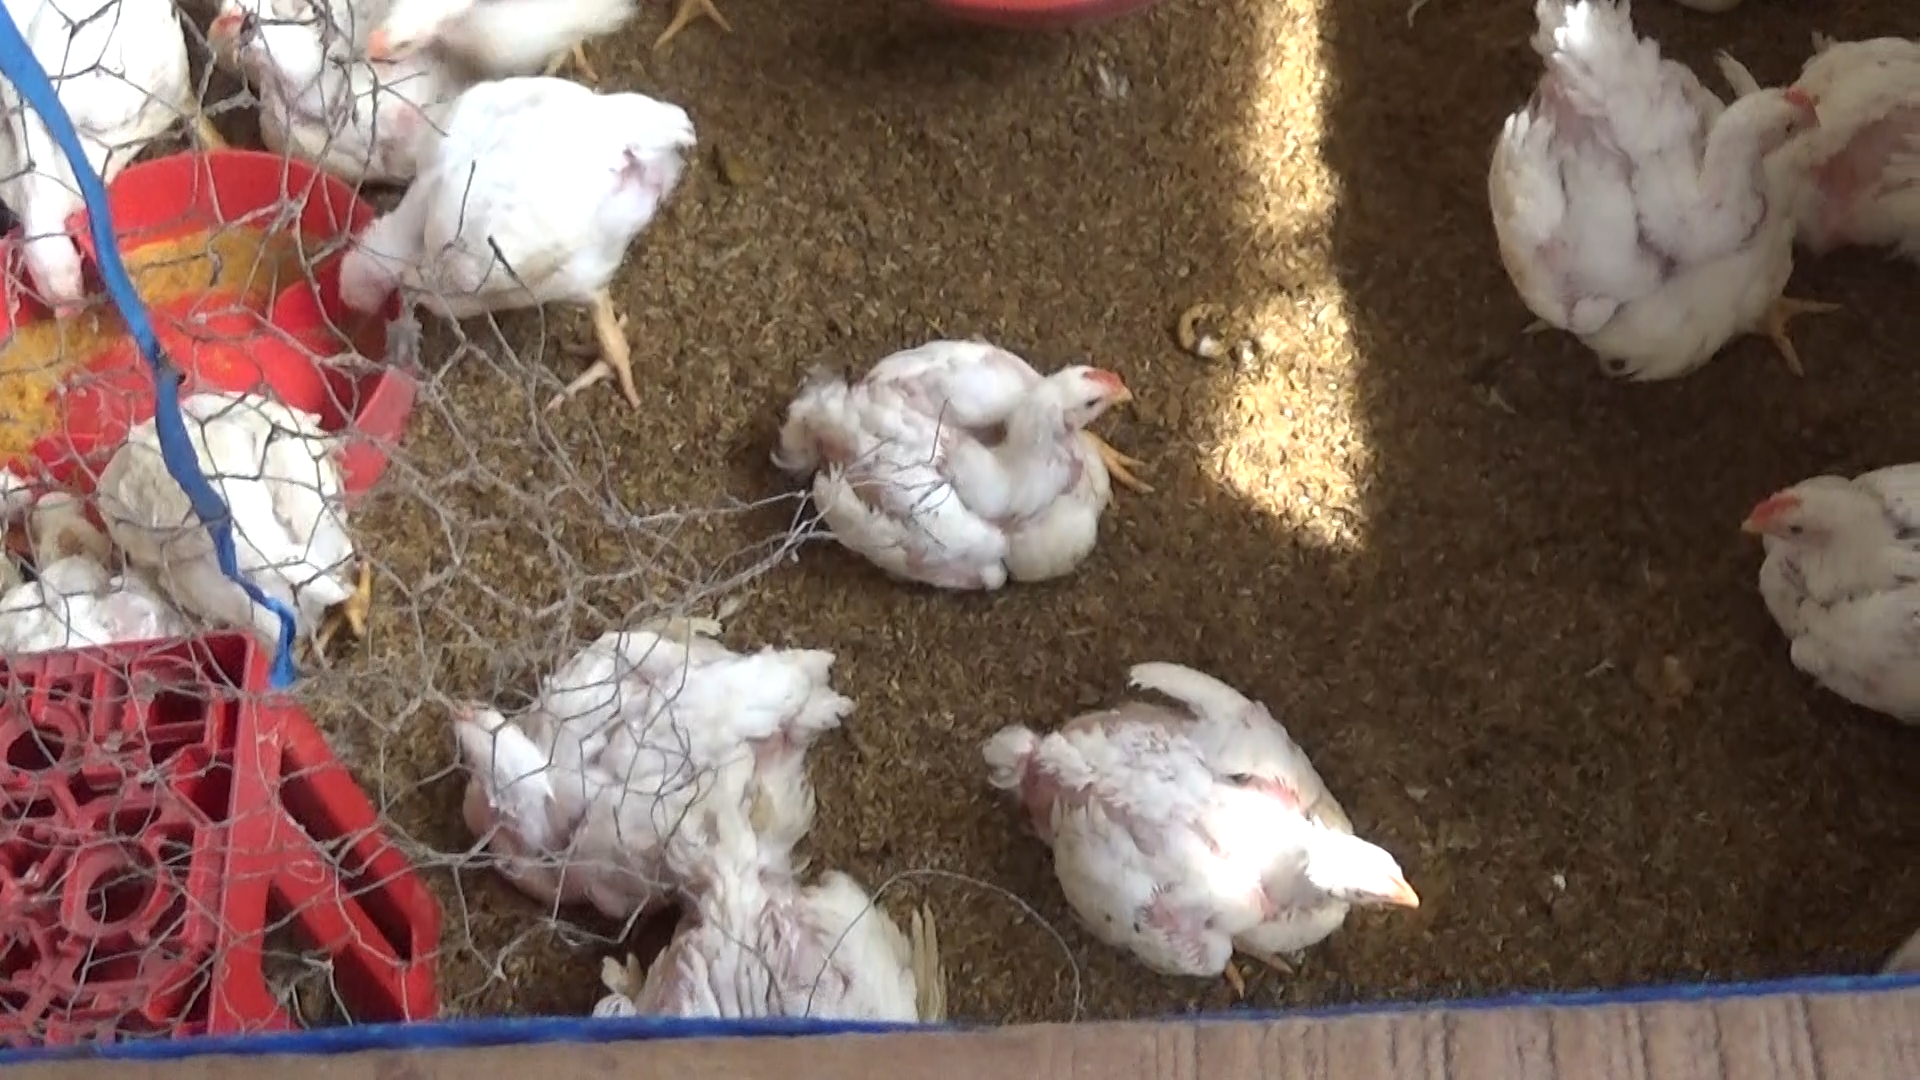Pollos: (957, 644, 1440, 1009), (1468, 0, 1844, 411), (407, 607, 843, 902), (331, 87, 707, 413), (760, 342, 1155, 611), (100, 357, 392, 649), (0, 0, 225, 336), (1735, 454, 1920, 721)
